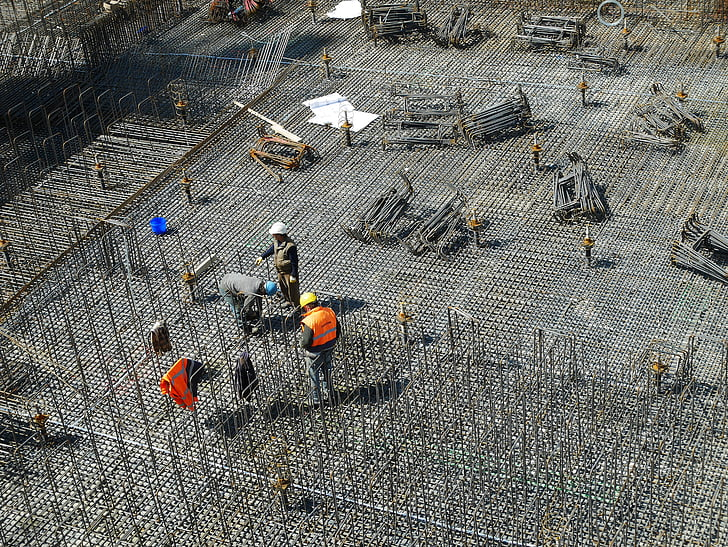Hard Hat: (268, 223, 289, 242), (298, 294, 319, 313), (259, 280, 277, 298)
Person: (297, 294, 342, 407), (220, 271, 276, 335), (257, 225, 300, 307)
Vest: (303, 304, 339, 353)
